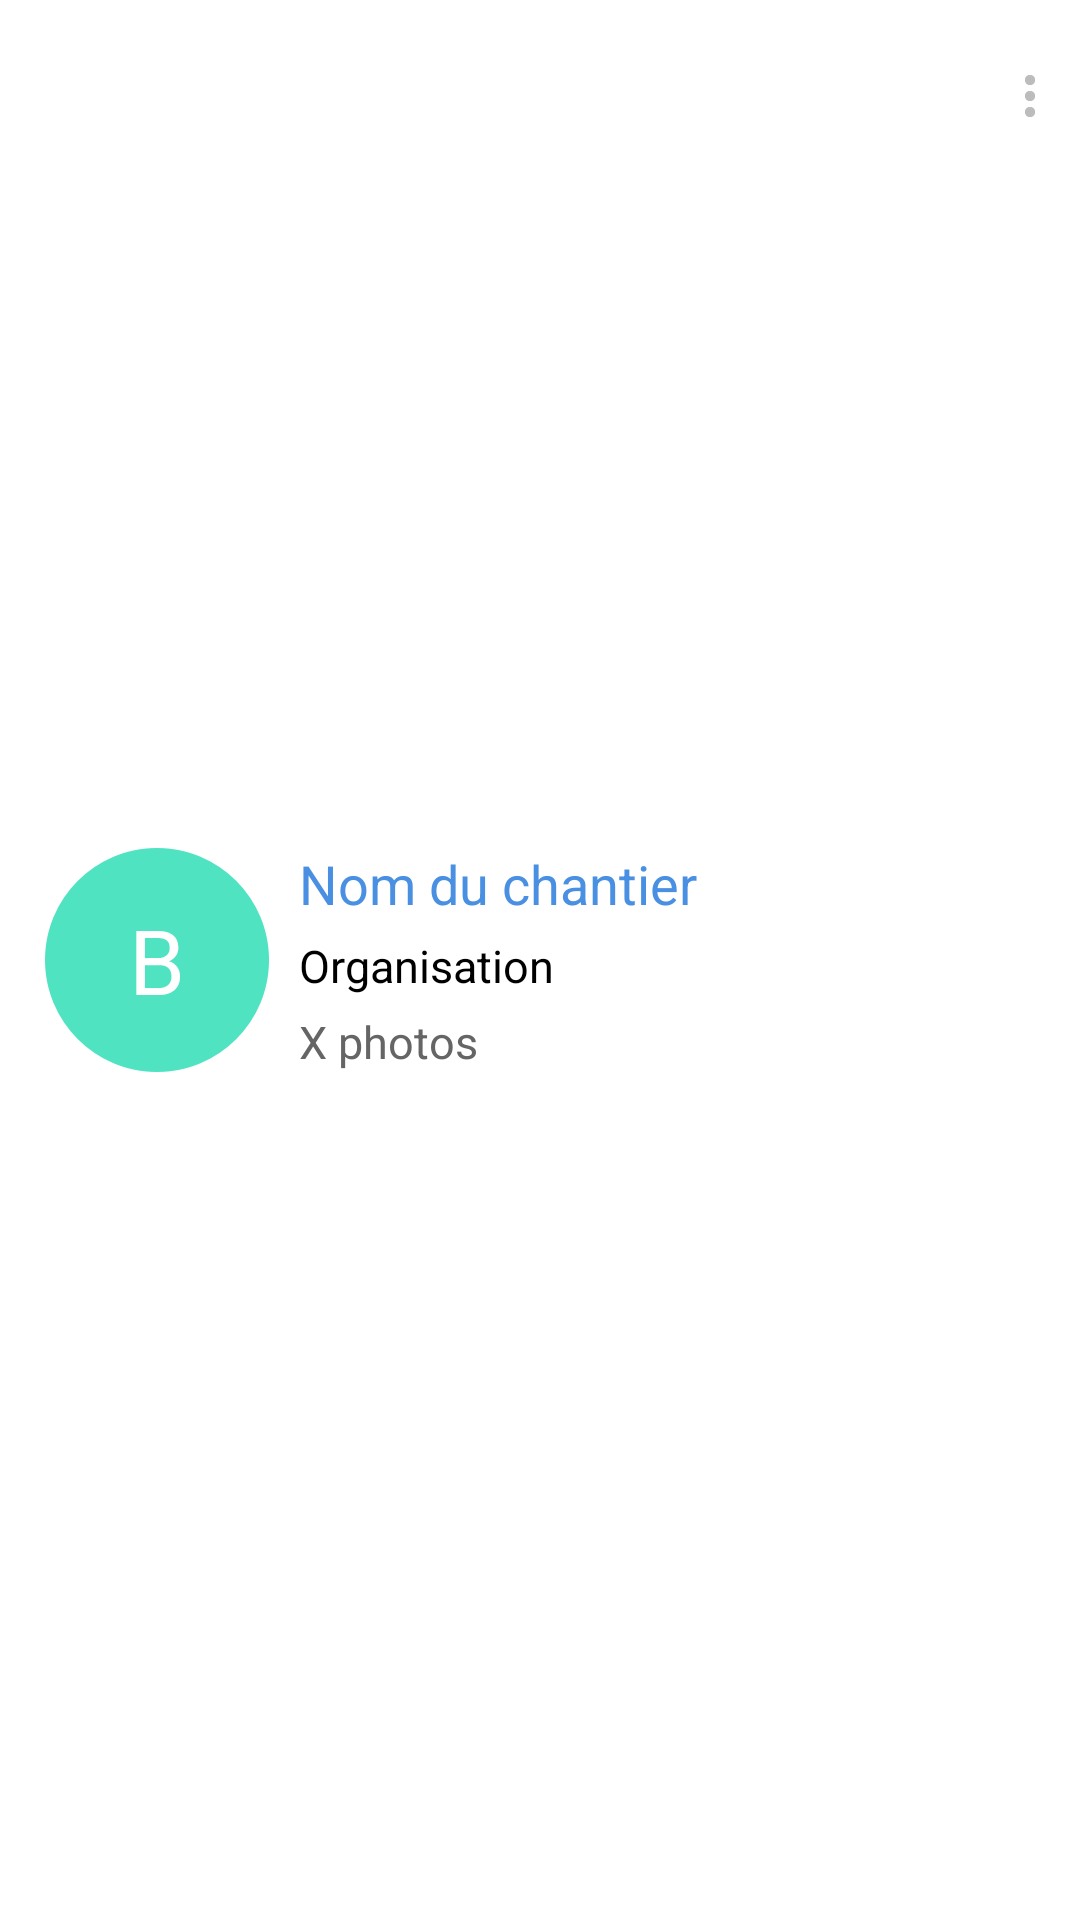

Icon click points for this 1080px x 1920px phone screenshot, format (x,y):
dots menu: (1030,96)
